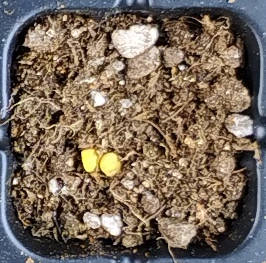chilli seed: (99, 151, 122, 176), (80, 148, 96, 172)
